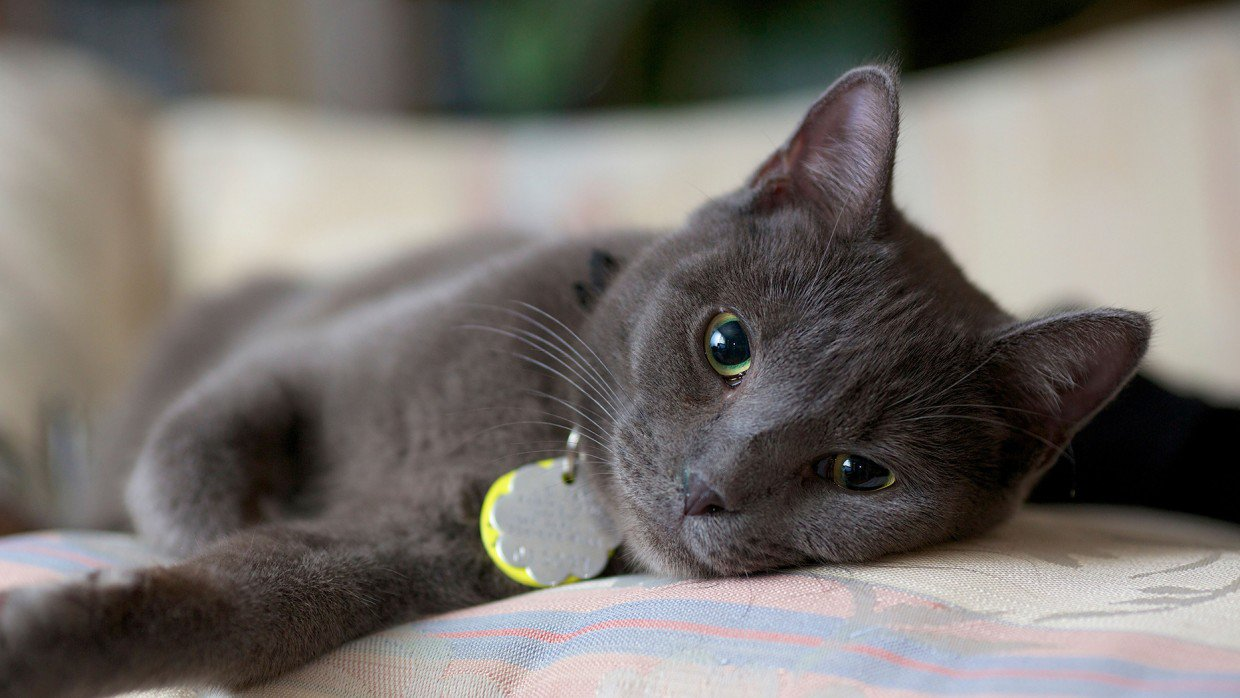cat: (148, 60, 1140, 622)
